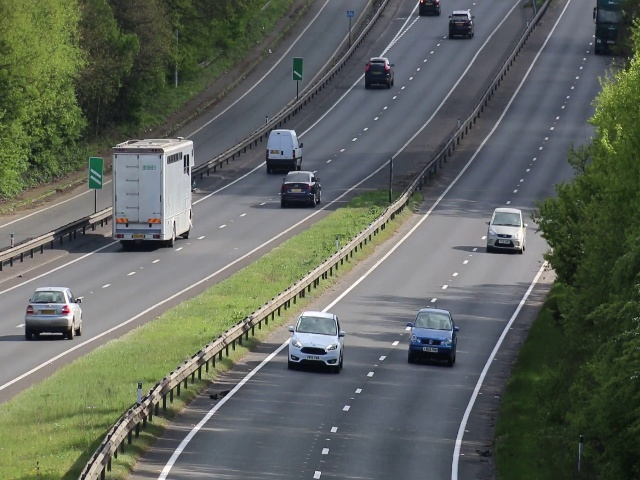car: (112, 140, 194, 249), (287, 312, 342, 372), (24, 286, 84, 339), (407, 308, 457, 367), (486, 207, 526, 255), (265, 130, 303, 171), (279, 170, 321, 206), (364, 57, 395, 90), (447, 10, 474, 40)
